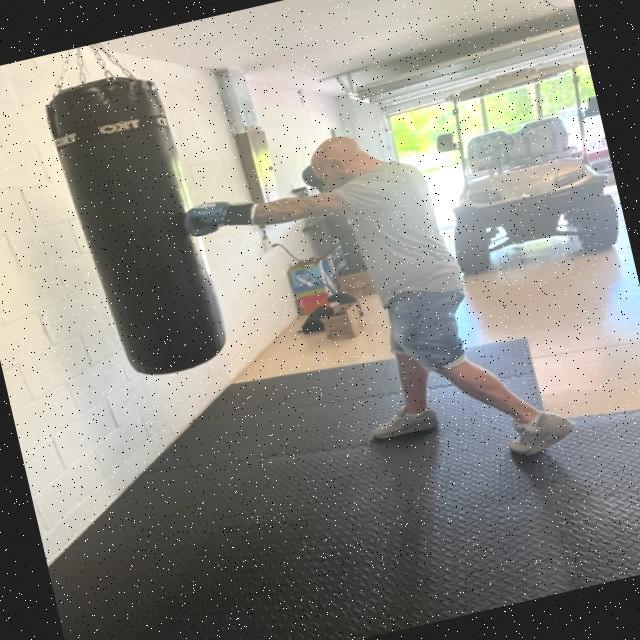cross: (129, 113, 434, 268)
